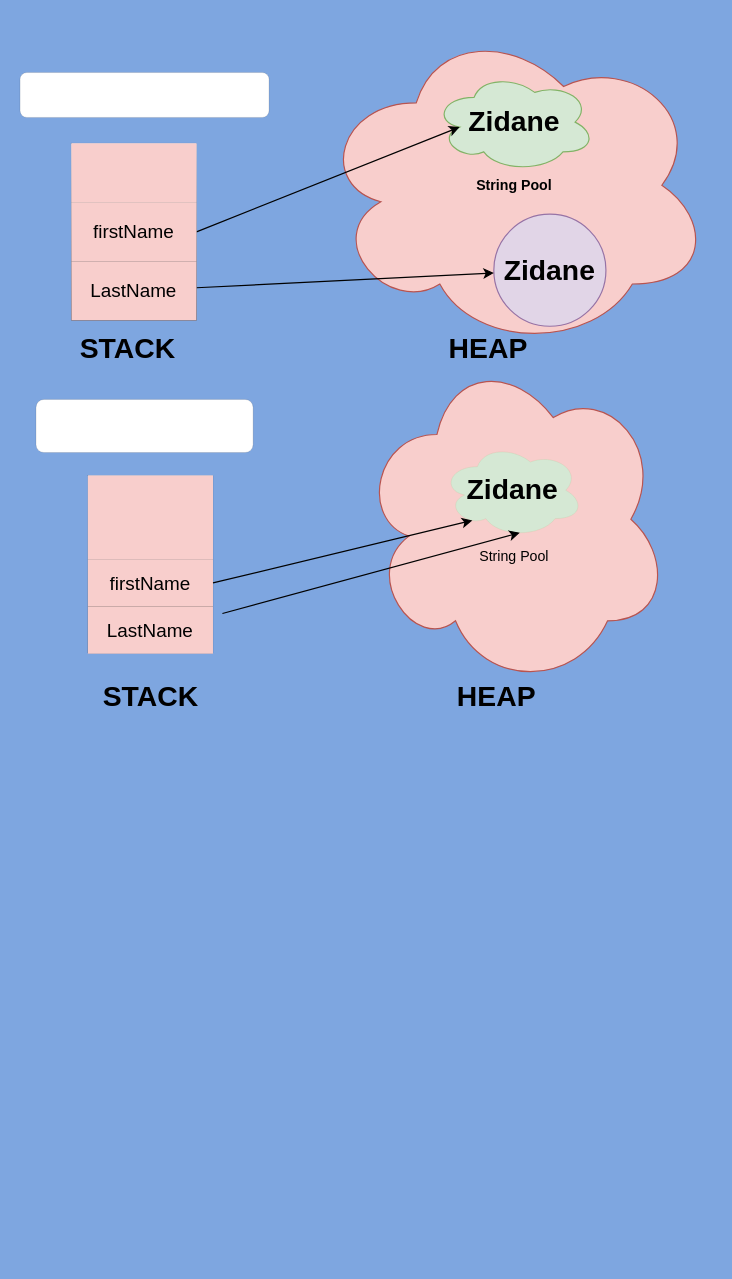
The diagram is 732 pixels wide and 1279 high, and some of its shapes have lost their labels. The shapes that lost their labels are listed below. From the top down, each one's centre as x and y in pixels, then its label:
[143,94]: Before Interning
[144,425]: After Interning
